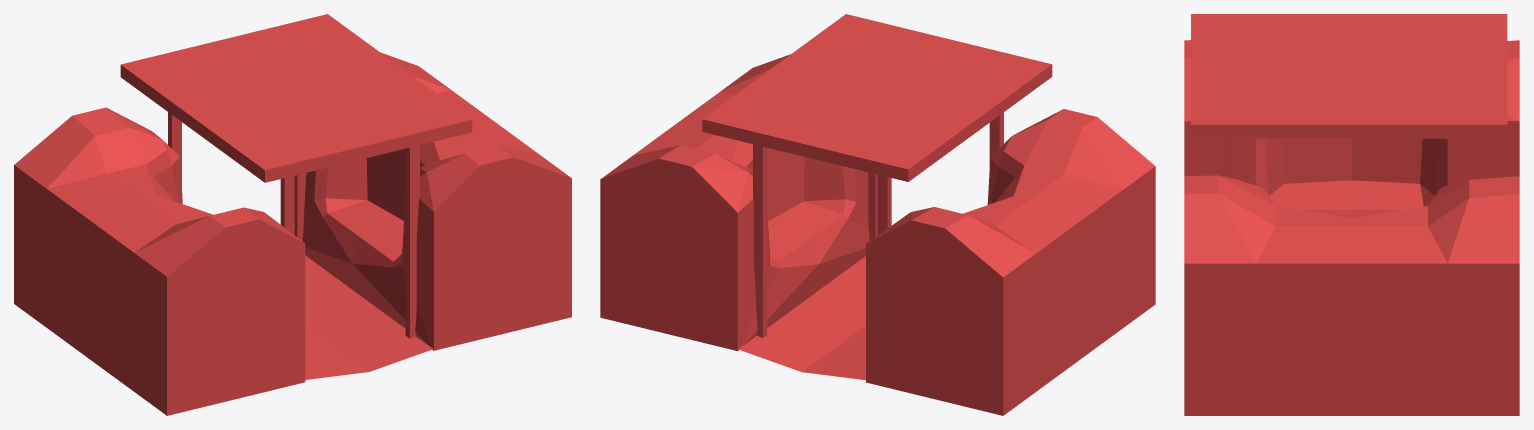
The model's file is Ground_Firebay_Double_Wood_COL.fbx.
3 renders of one model, left to right at view 1: azimuth 30°, elevation 25°; view 2: azimuth 150°, elevation 25°; view 3: azimuth 270°, elevation 25°, orthographic. The views are drawn at different scales.
Parts seen in each view (by area): view 1: Ground_Firebay_Double_Wood_COL; view 2: Ground_Firebay_Double_Wood_COL; view 3: Ground_Firebay_Double_Wood_COL.
Part boxes in pixels (x1,y1,x2,y2): Ground_Firebay_Double_Wood_COL: (14, 14, 571, 415); Ground_Firebay_Double_Wood_COL: (600, 14, 1155, 415); Ground_Firebay_Double_Wood_COL: (1184, 14, 1519, 415).
Bounding box in the file's own units: 611 × 323 × 400.
